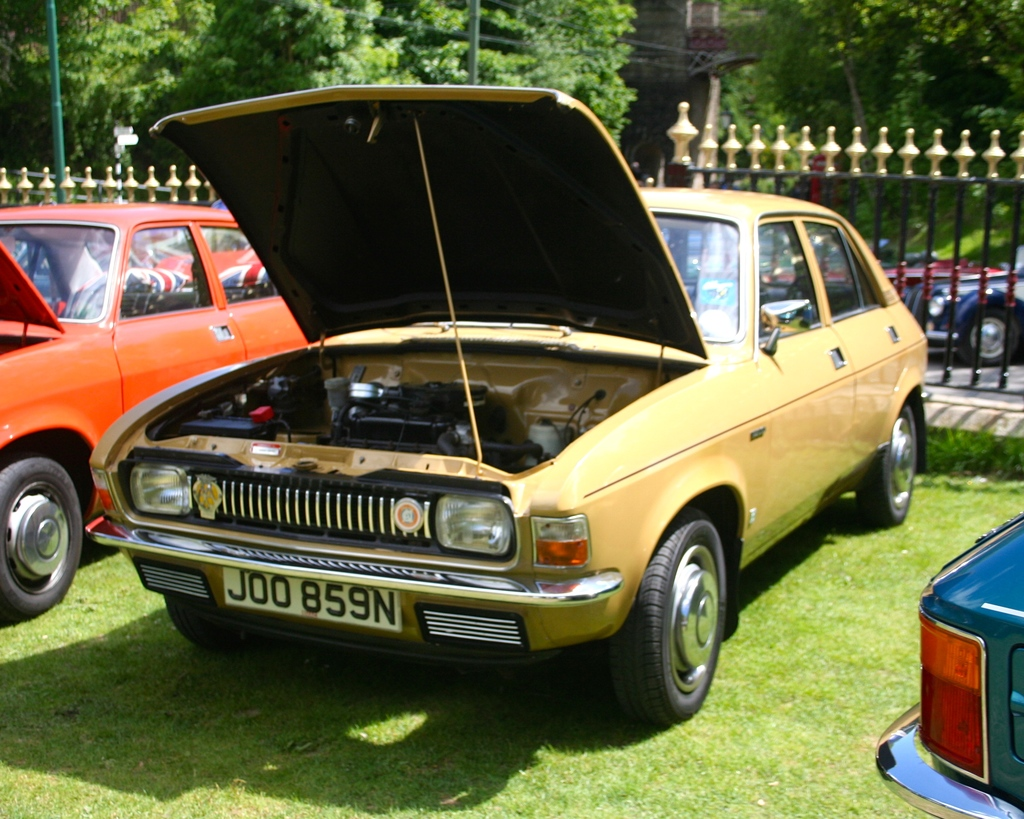Car: (91, 76, 928, 719), (0, 189, 328, 618), (863, 521, 1021, 818), (776, 231, 995, 296), (899, 262, 1021, 367)
